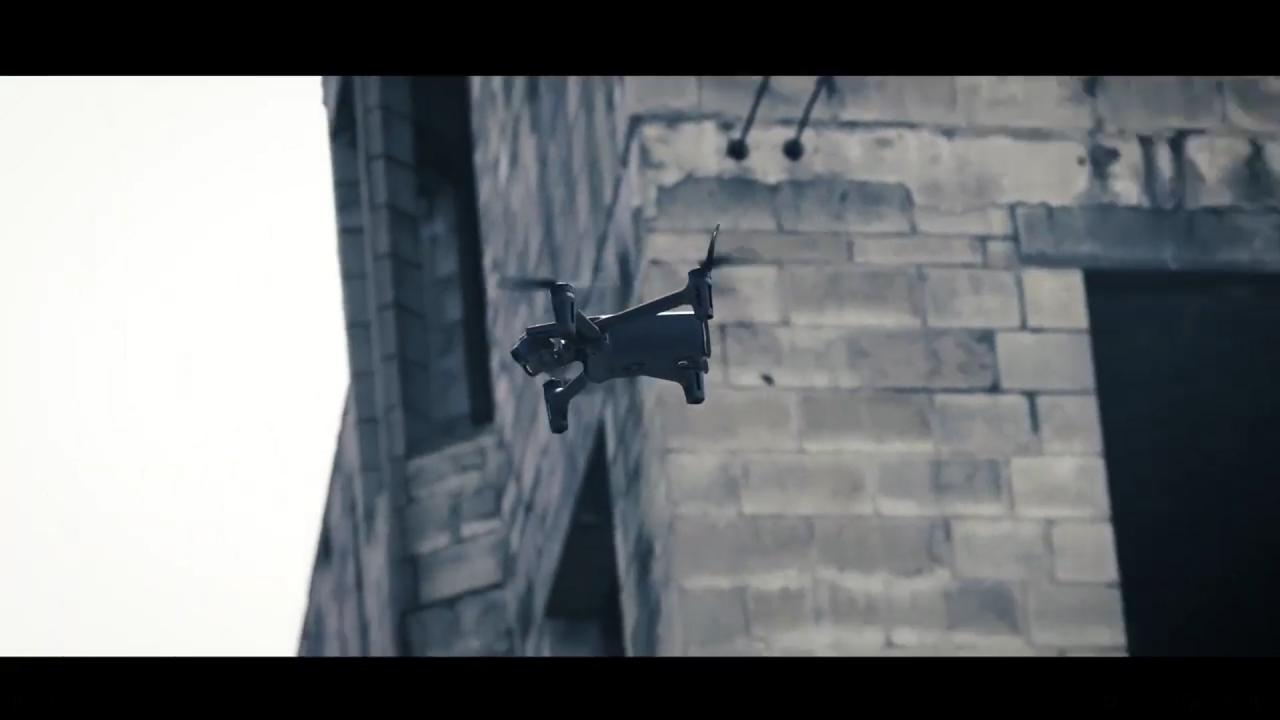Drone: (479, 208, 795, 446)
